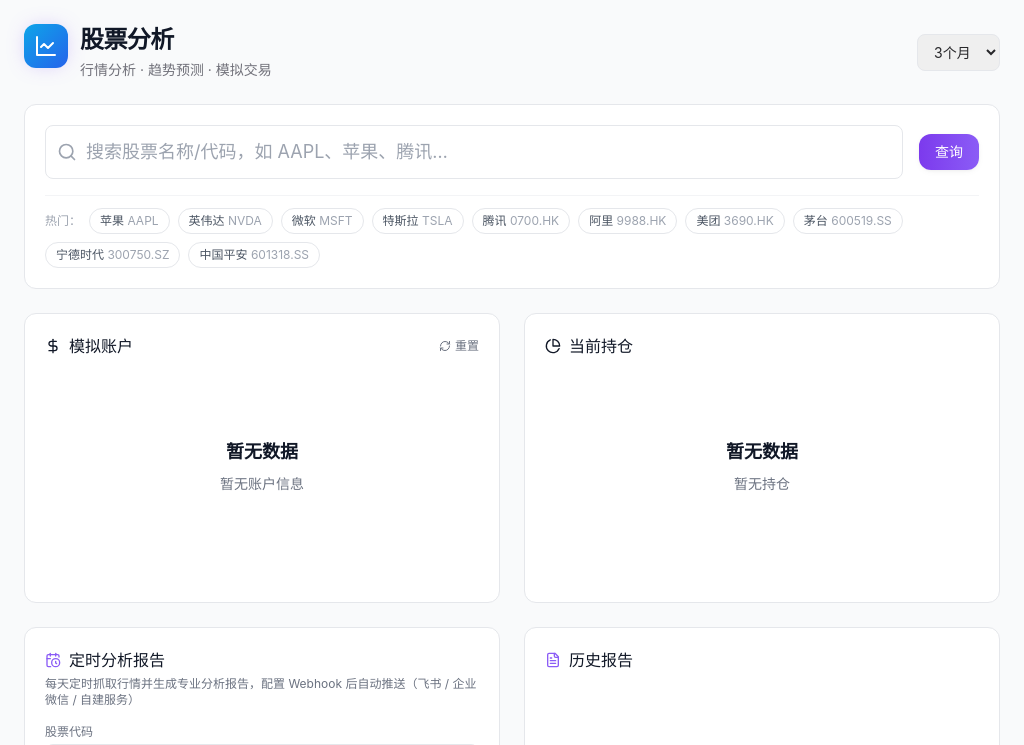
Test: StockAnalysisPage v21 › 查询股票后渲染 K 线图卡片
In the field with placeholder "搜索股票名称/代码，如 AAPL、苹果、腾讯…": (474, 152) [45, 125, 903, 179], type "AAPL"
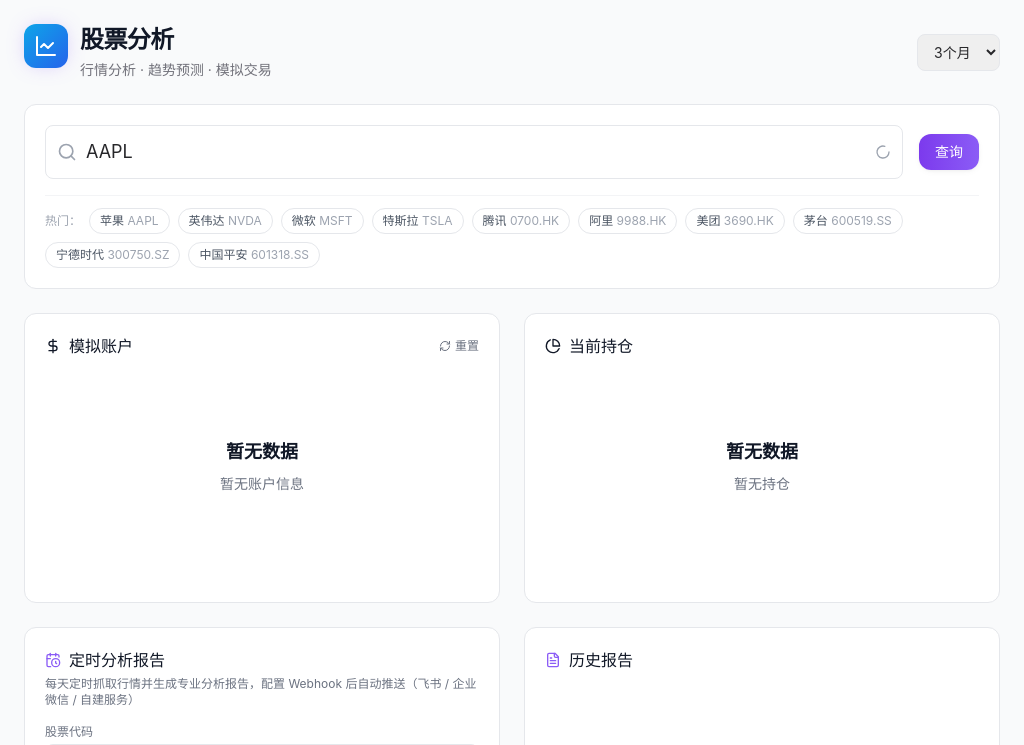
Click the button "查询": (949, 152) [919, 134, 979, 170]
(page scrolled)
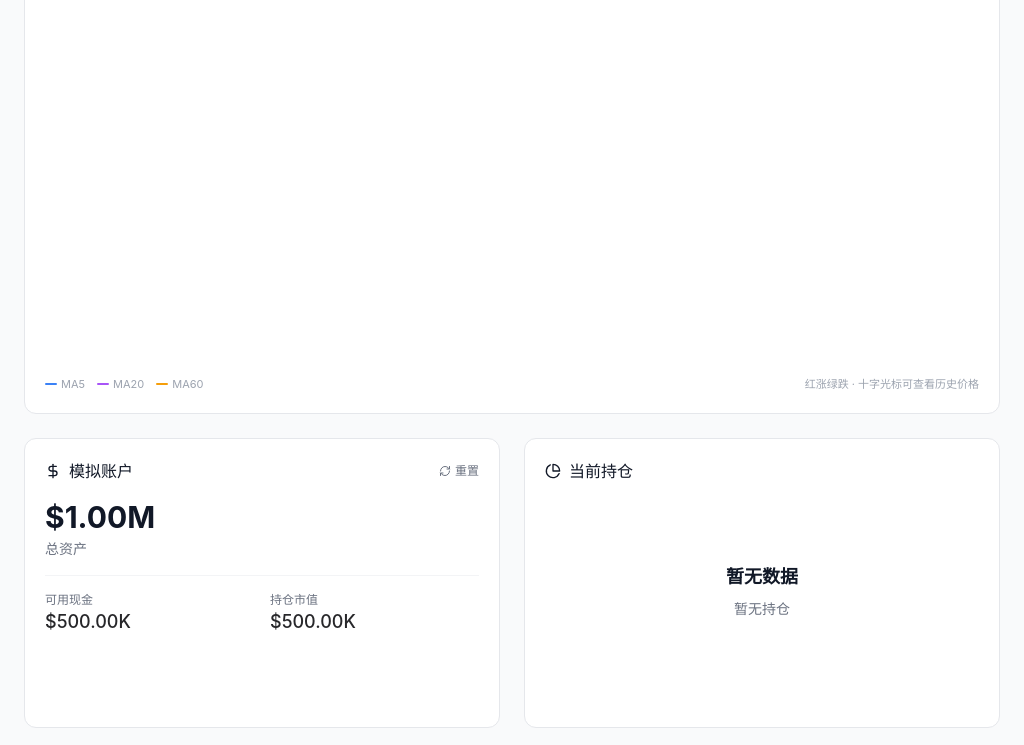
Expected: the text "红涨绿跌 · 十字光标可查看历史价格" is shown, [805, 376, 979, 392]
